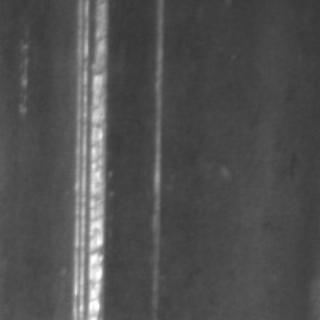scratches: (64, 0, 110, 316), (144, 0, 168, 316)
